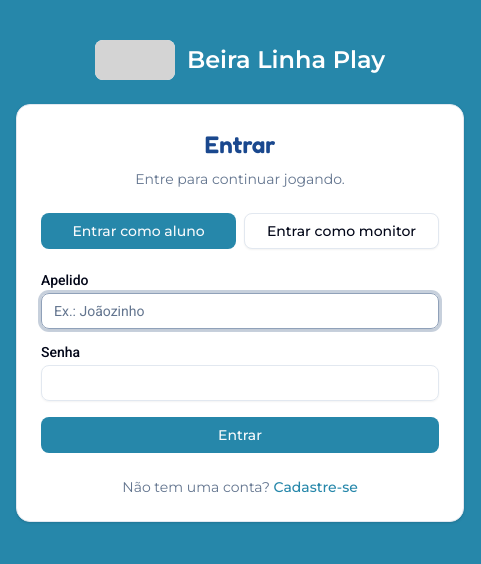
Test: LoginPage › validates required student fields
The width and height of the screenshot is (481, 564).
Click the button "Entrar": [240, 435] box [41,417,439,453]
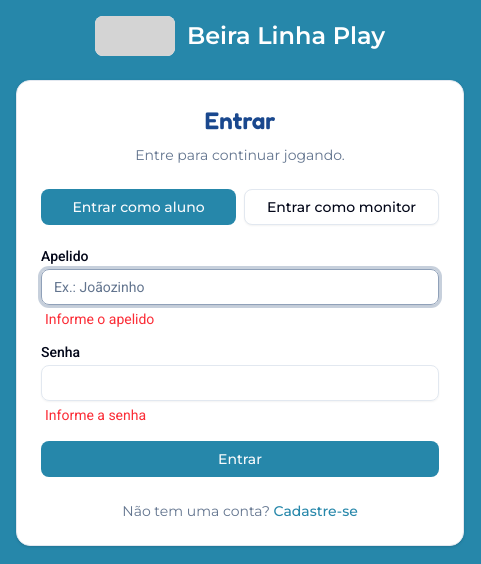
Now the text "Informe o apelido" is shown, box [45,311,154,327]
Now the text "Informe a senha" is shown, box [45,407,146,423]
